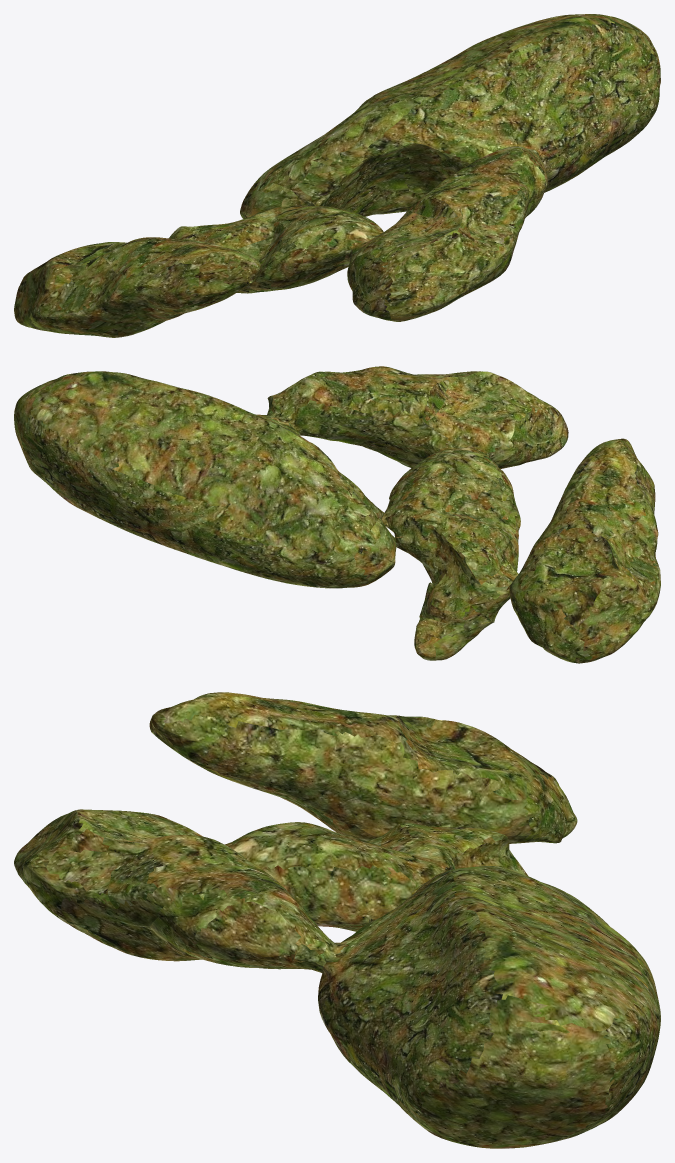
File: weed.glb
The picture shows the model from 3 angles, top to bottom: view 1: azimuth 30°, elevation 25°; view 2: azimuth 150°, elevation 25°; view 3: azimuth 270°, elevation 25°; orthographic projection. The views are drawn at different scales.
Visible parts, largest first — view 1: weed; view 2: weed; view 3: weed.
Boxes of the visible parts, box(x1,y1,x2,y2) form: weed: box(14, 14, 660, 337); weed: box(14, 366, 660, 663); weed: box(14, 692, 660, 1148).
Bounding box in the file's own units: 1.69 × 0.4888 × 1.01.
Materials: 1 (1 with a texture image).
